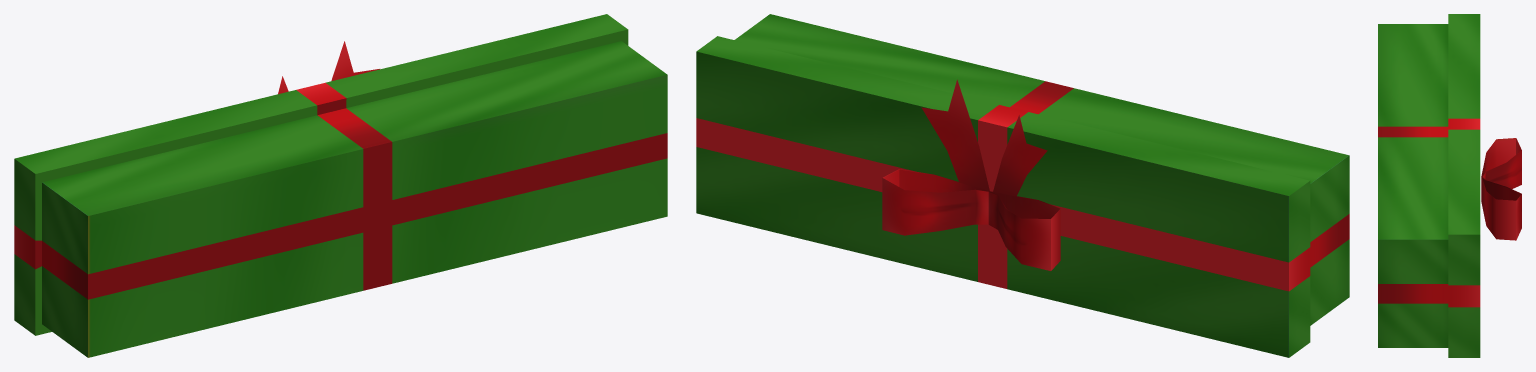
Rendered from Present_H.fbx.
The picture shows the model from 3 angles, left to right: view 1: azimuth 30°, elevation 25°; view 2: azimuth 150°, elevation 25°; view 3: azimuth 270°, elevation 25°; orthographic projection. The views are drawn at different scales.
Parts seen in each view (by area): view 1: Present_H; view 2: Present_H; view 3: Present_H.
Boxes of the visible parts, x1=… form: Present_H: x1=14, y1=14, x2=667, y2=357; Present_H: x1=696, y1=14, x2=1349, y2=357; Present_H: x1=1378, y1=14, x2=1521, y2=357.
Bounding box in the file's own units: 52.84 × 16.92 × 14.56.
